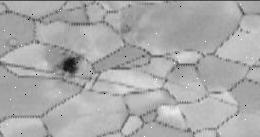good_void: (61, 54, 80, 75)
